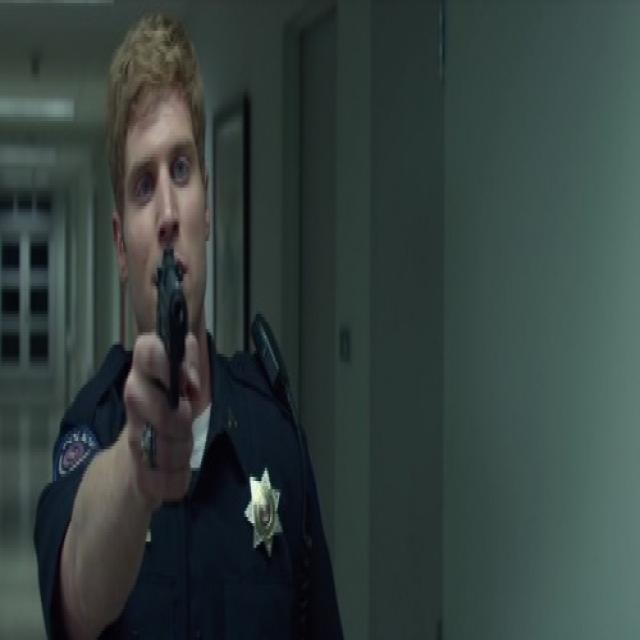weapons: (139, 218, 200, 507)
